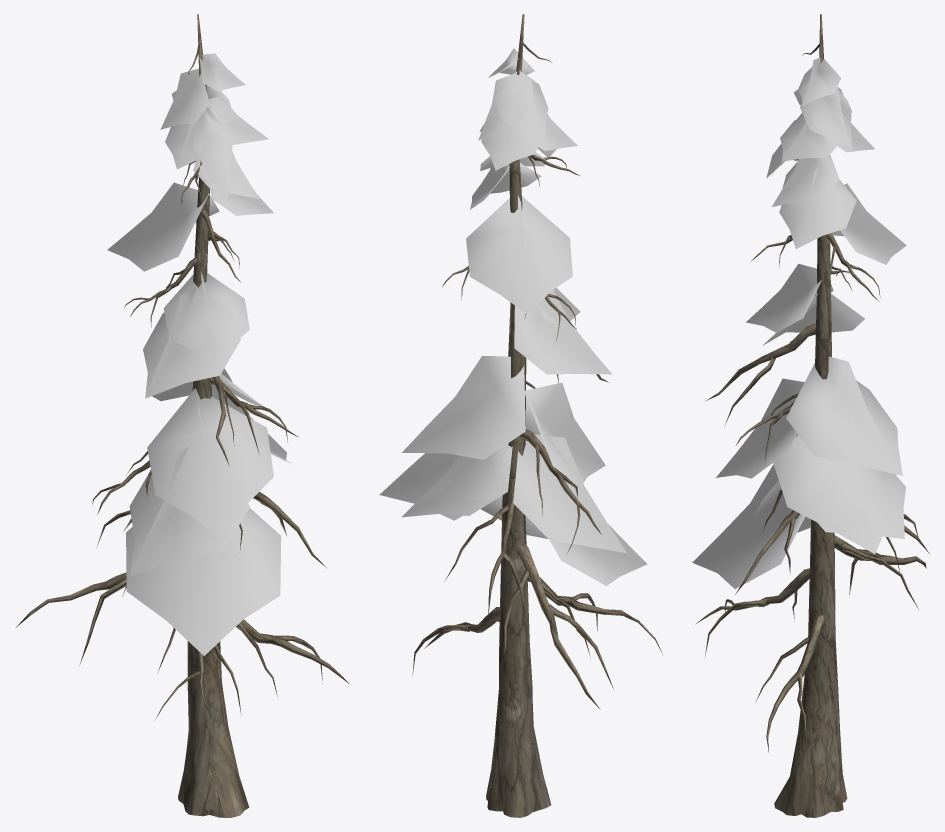
Rendered from SM_Com_Tre_16AL.fbx.
3 renders of one model, left to right at view 1: azimuth 30°, elevation 25°; view 2: azimuth 150°, elevation 25°; view 3: azimuth 270°, elevation 25°, orthographic.
Visible parts, largest first — view 1: SM_Com_Tre_16AL.mo; view 2: SM_Com_Tre_16AL.mo; view 3: SM_Com_Tre_16AL.mo.
Part boxes in pixels (box(x1,y1,x2,y2)): SM_Com_Tre_16AL.mo: box(16, 14, 350, 817); SM_Com_Tre_16AL.mo: box(379, 14, 663, 817); SM_Com_Tre_16AL.mo: box(692, 14, 929, 817).
Bounding box in the file's own units: 3.47 × 10.16 × 2.8.
